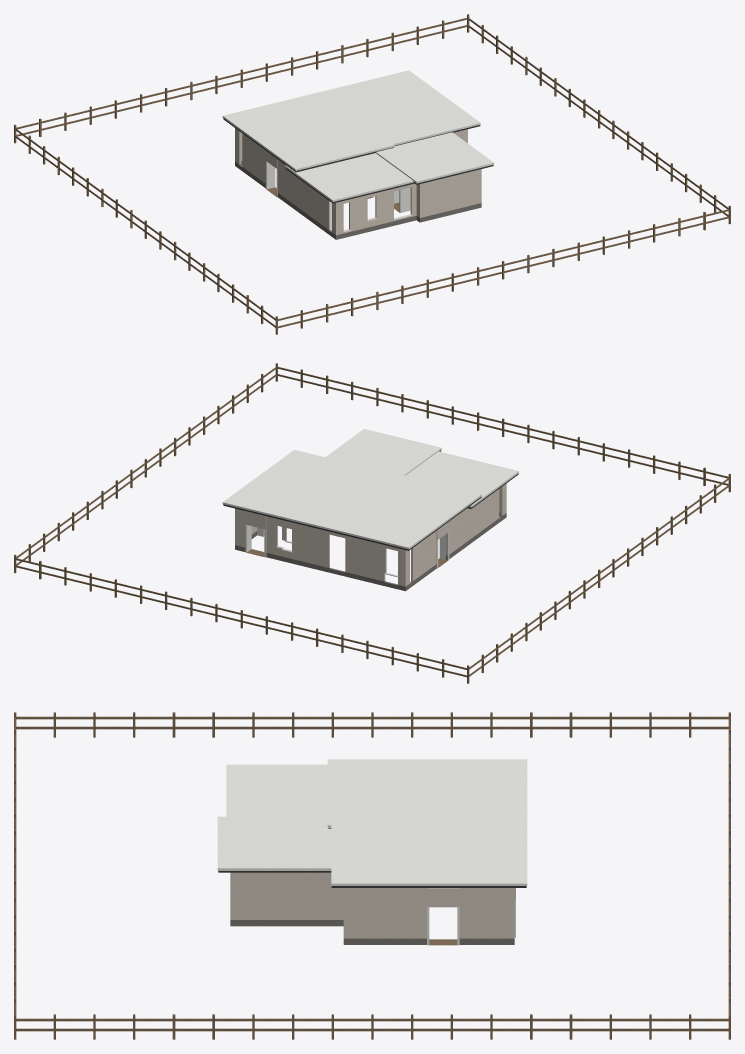
File: big_house_exterior.glb
3 renders of one model, top to bottom at view 1: azimuth 30°, elevation 25°; view 2: azimuth 150°, elevation 25°; view 3: azimuth 270°, elevation 25°, orthographic. The views are drawn at different scales.
Parts seen in each view (by area): view 1: exterior; view 2: exterior; view 3: exterior.
Part boxes in pixels (x1,y1,x2,y2): exterior: (14, 14, 730, 334); exterior: (14, 363, 730, 683); exterior: (14, 712, 730, 1039).
Bounding box in the file's own units: 36.12 × 3.71 × 36.12.
5 materials, 5 textured.
